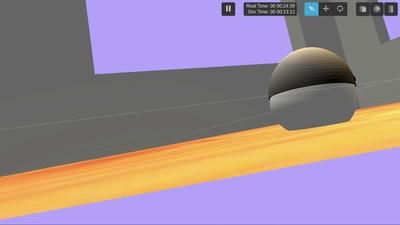mira_robot: (269, 47, 357, 131)
